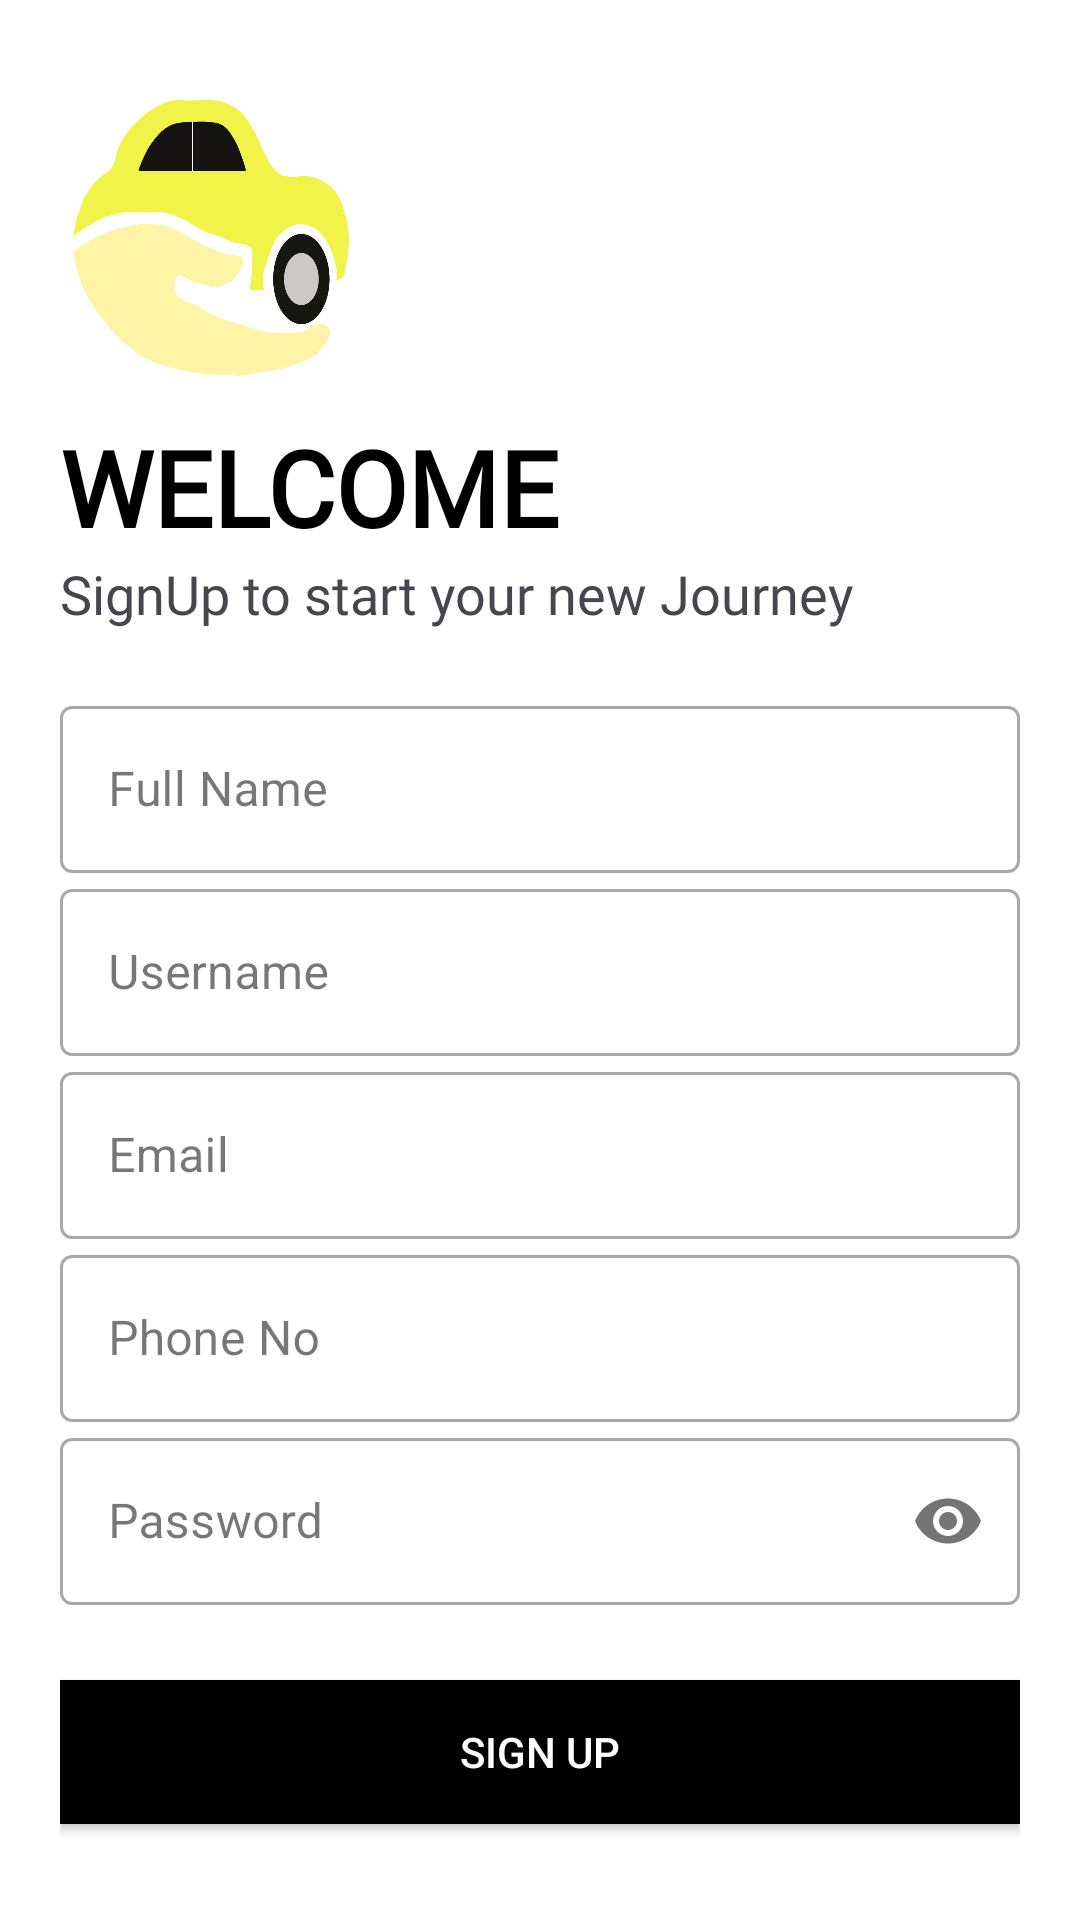

Named icons in this screenshot (1080px×1920px) and their centers, (x,y):
car: (211,238)
